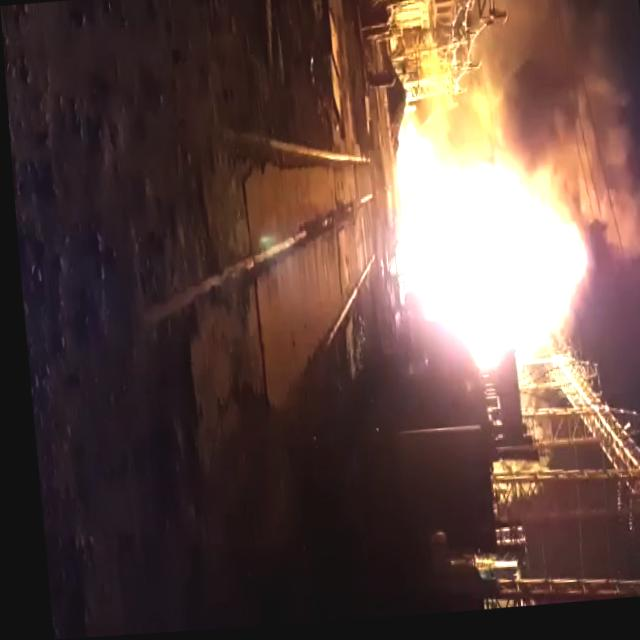helmet: (387, 103, 589, 384)
no_helmet: (445, 0, 640, 287)
